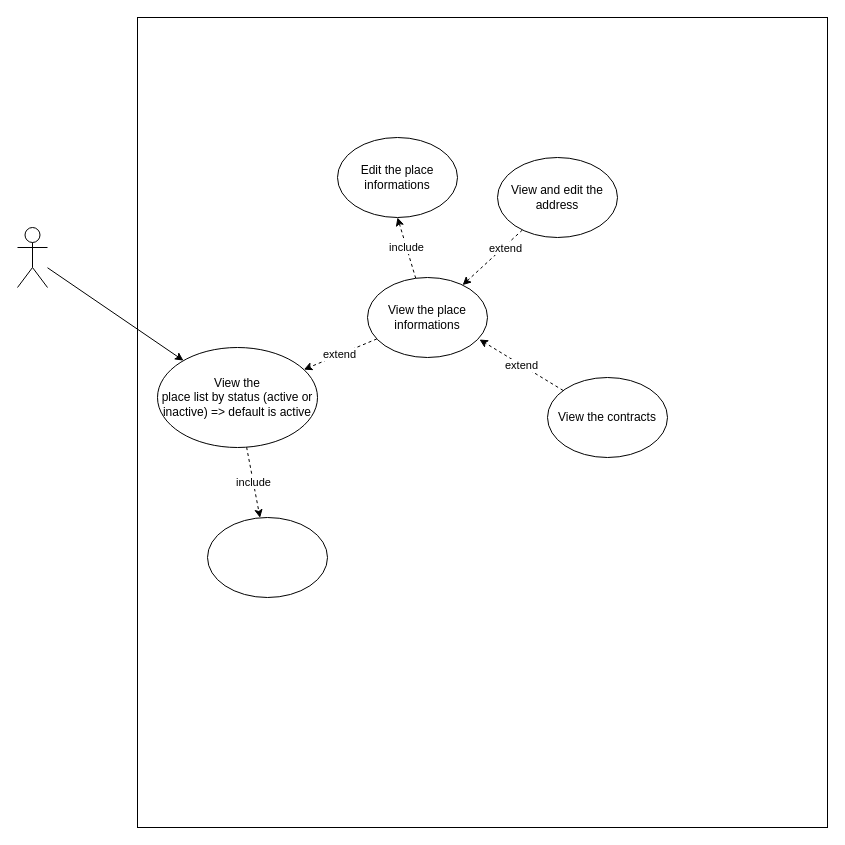
Image size: 845x845. Some labels were removed from this diagram. The shapes that lost their labels are listed below. From the top down, each one's centre as x and y in pixels, then its label:
At pixel 32 257: "User".
At pixel 267 557: "Delete a place".
